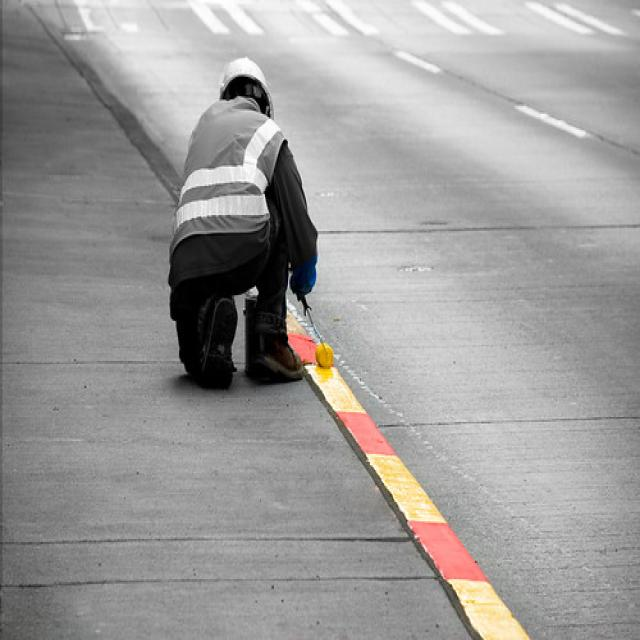Reflective-Jacket: (164, 108, 296, 256)
Safety-Helmet: (215, 50, 275, 101), (312, 337, 340, 374)
